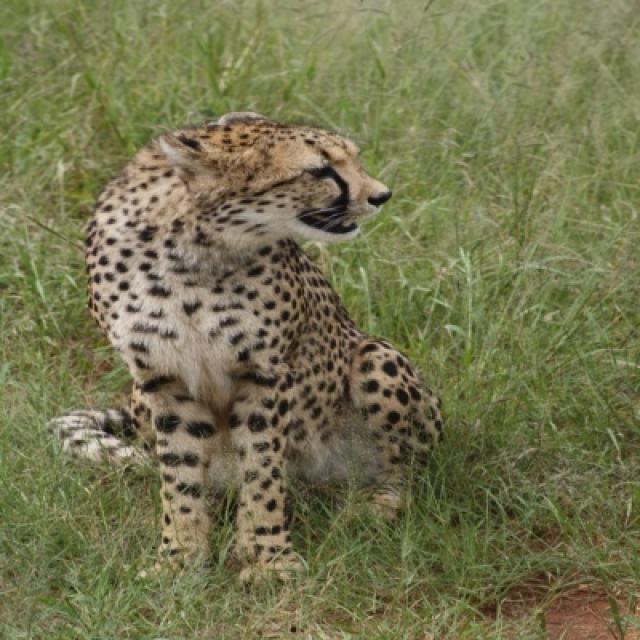Cheetah: (39, 113, 441, 585)
